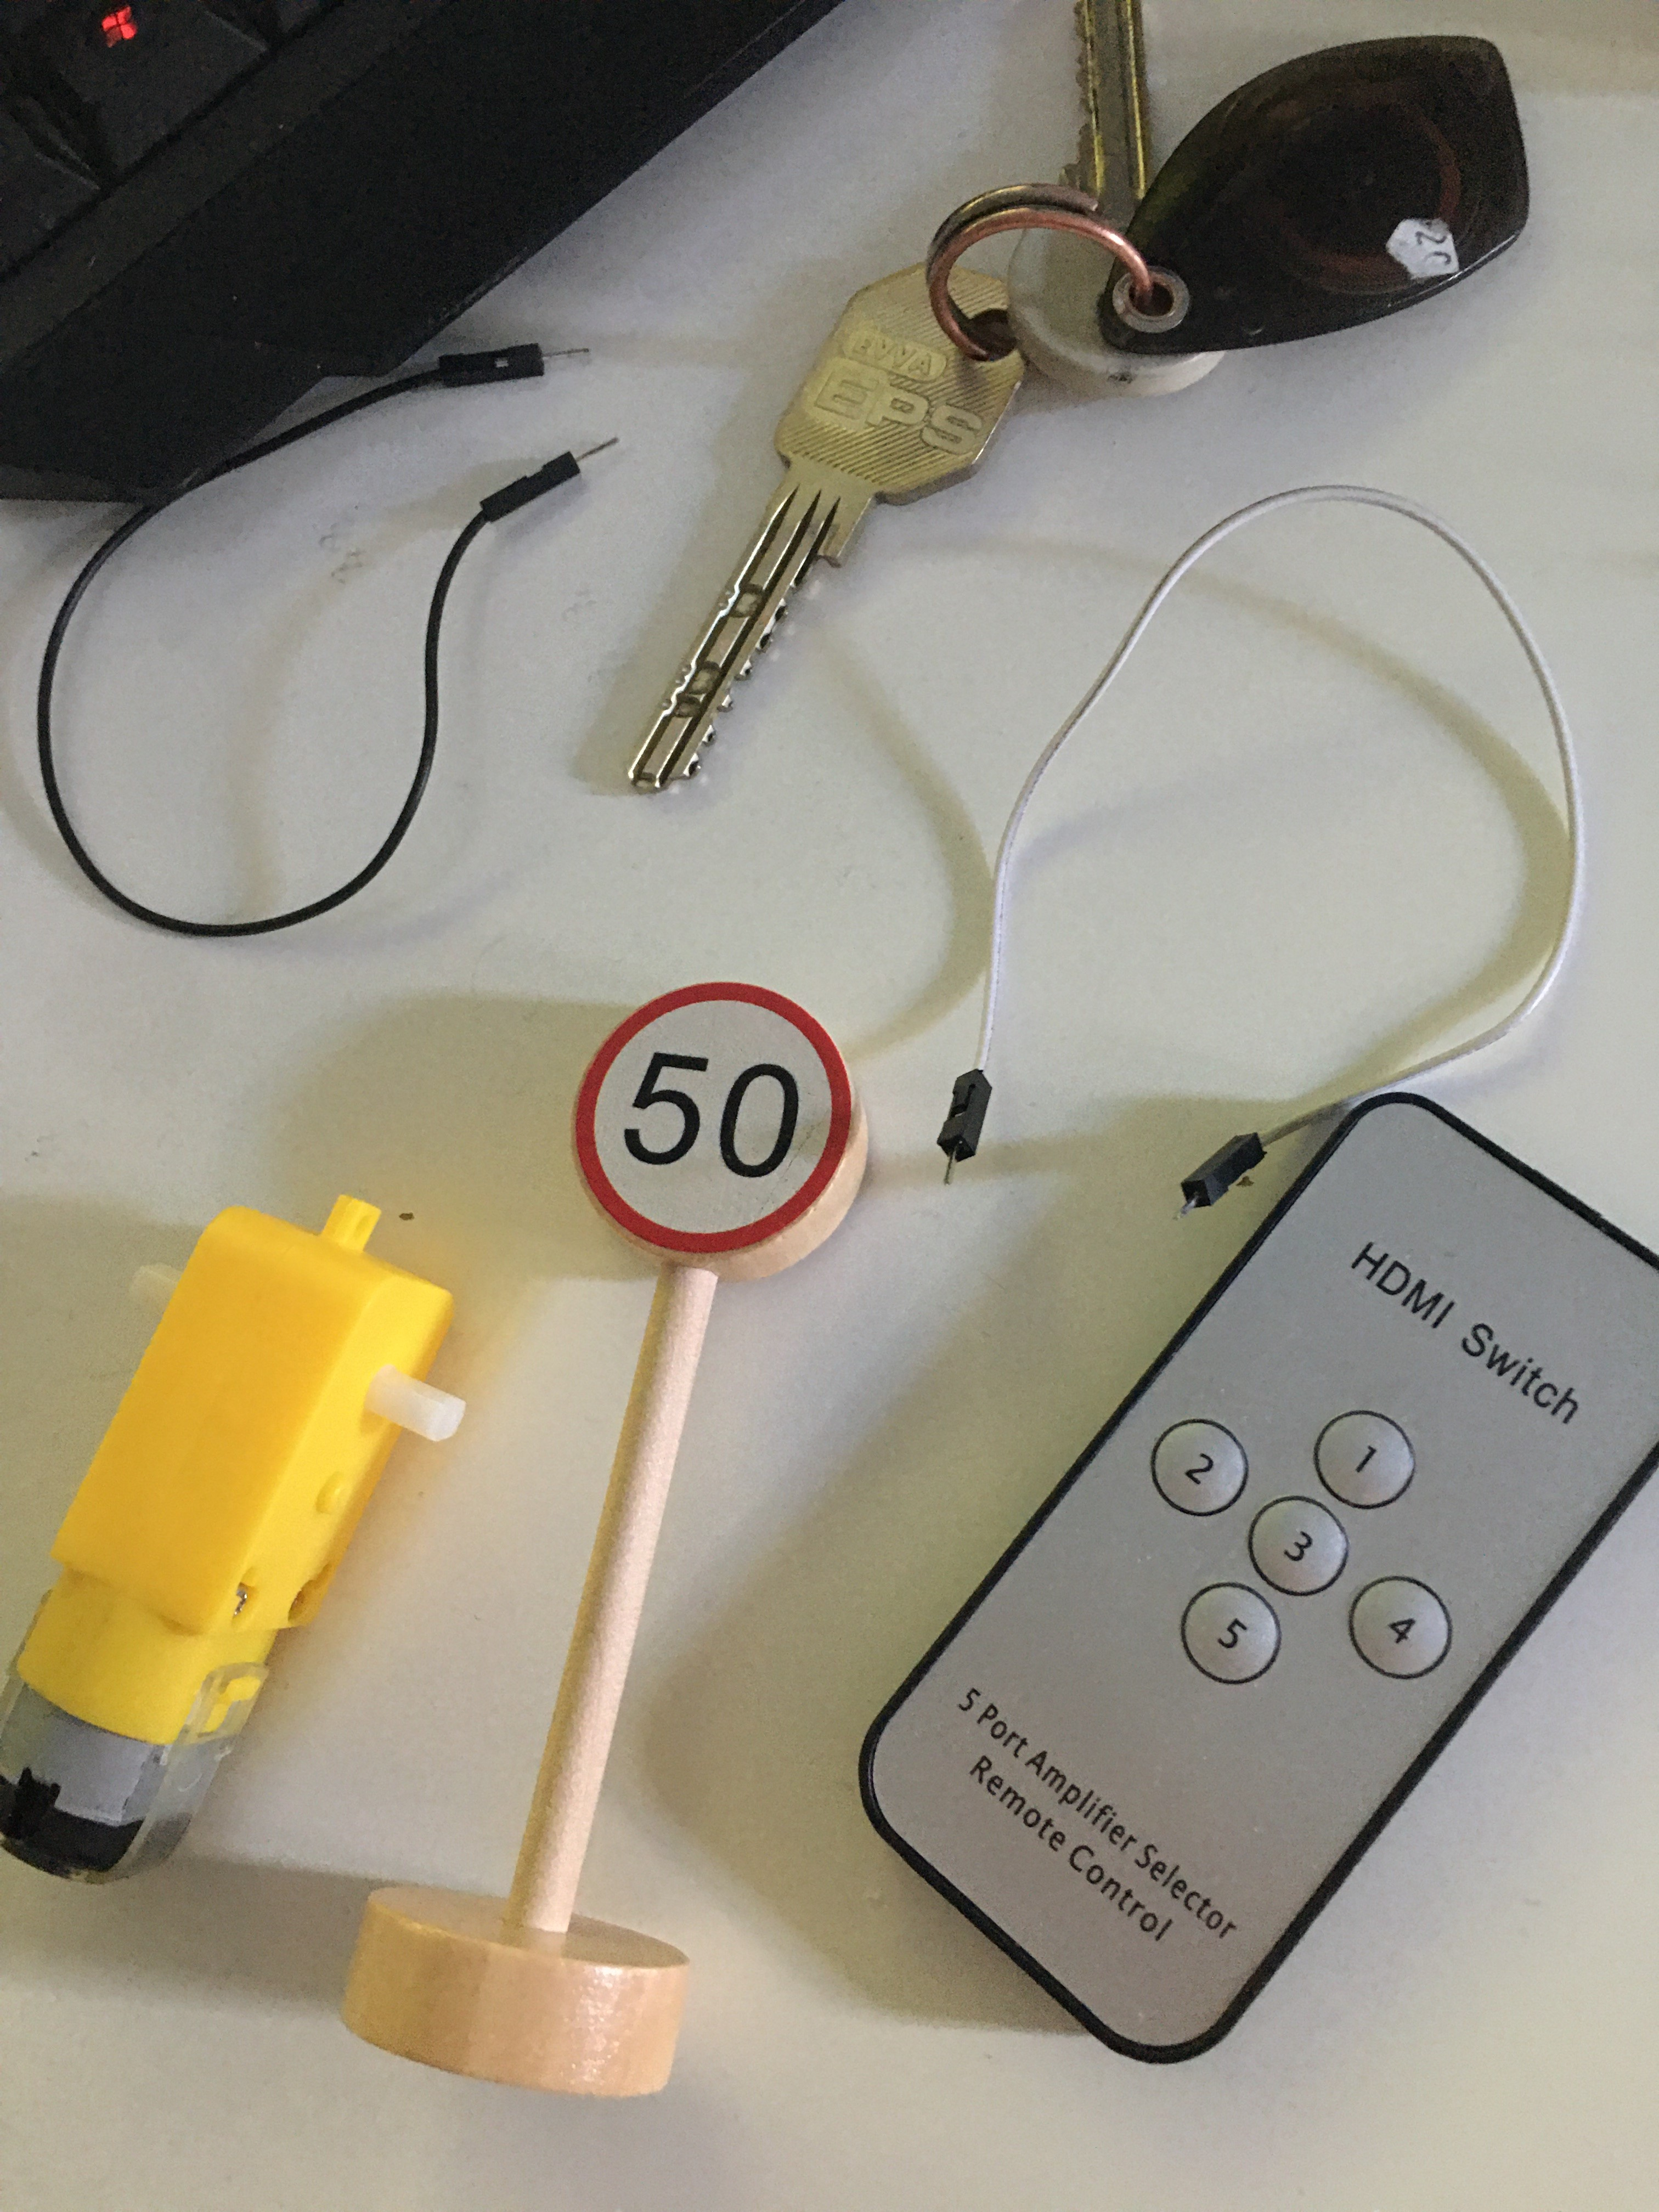Traffic_Sign_50: (577, 986, 854, 1247)
